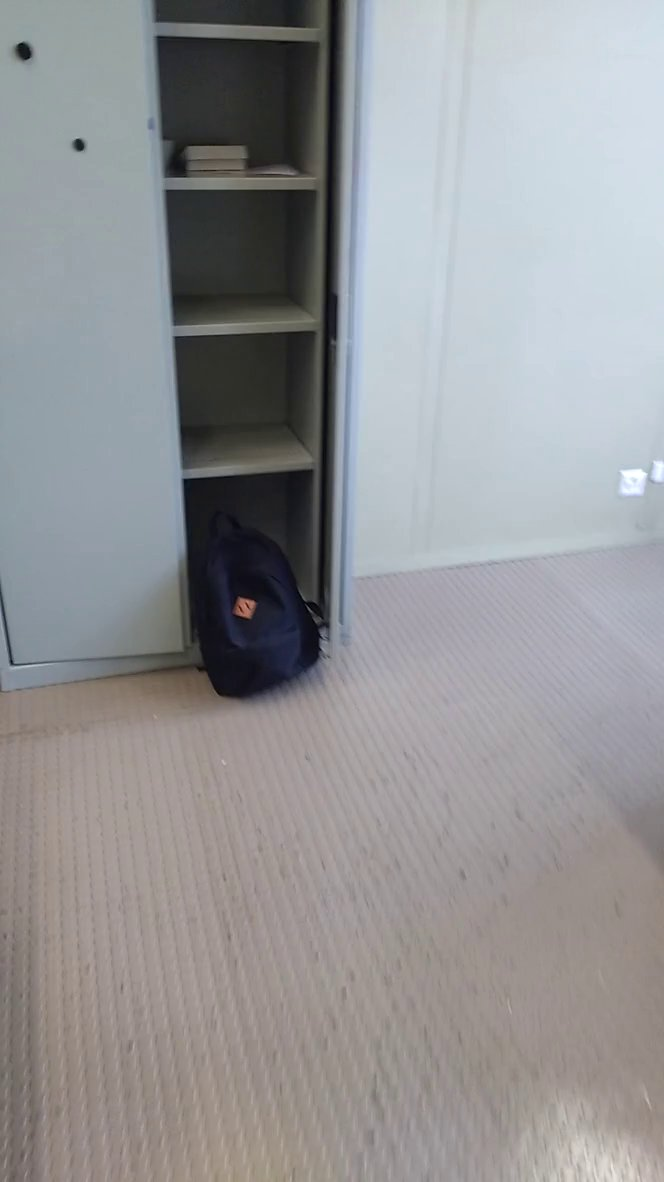bag: (187, 499, 334, 703)
